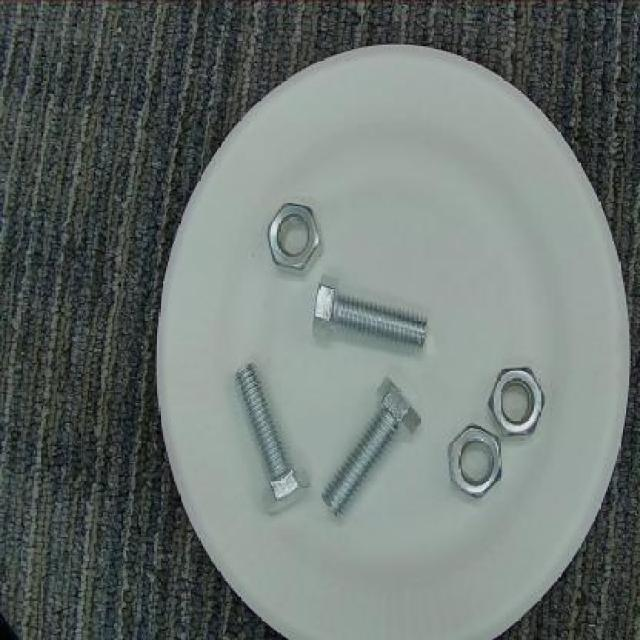Bolt: (316, 374, 426, 529), (230, 358, 314, 520), (306, 280, 434, 357)
Nut: (445, 425, 513, 503), (264, 197, 325, 277), (485, 365, 548, 437)
